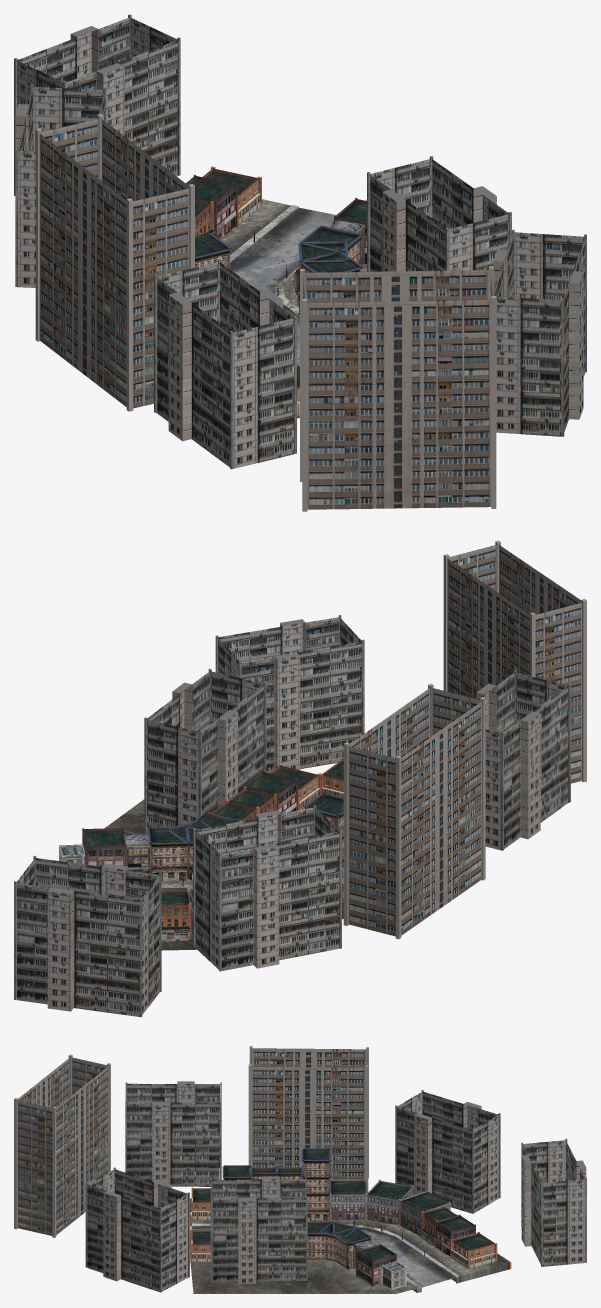
Rendered from street-v2.glb.
The picture shows the model from 3 angles, top to bottom: view 1: azimuth 30°, elevation 25°; view 2: azimuth 150°, elevation 25°; view 3: azimuth 270°, elevation 25°; orthographic projection. The views are drawn at different scales.
Visible parts, largest first — view 1: Plane.030, Plane.027, Cube.016, Cube.019, Cube.013, Cube.014, Cube.012, Plane, Cube.005, Cube.006, Plane.006, Plane.026 (+5 smaller); view 2: Plane.027, Cube.012, Cube.013, Plane.030, Cube.019, Cube.014, Cube.016, Plane.026, Cube.008, Plane.011, Cube.009, Cube.010 (+6 smaller); view 3: Plane.027, Plane.030, Cube.019, Cube.012, Cube.014, Cube.016, Cube.013, Plane.007, Plane.006, Plane, Cube.004, Cube.007 (+17 smaller).
Boxes of the visible parts, x1,y1,x2,y2 form: Plane.030: (300,266,496,511); Plane.027: (35,114,194,411); Cube.016: (154,259,296,469); Cube.019: (493,229,586,436); Cube.013: (14,14,180,195); Cube.014: (367,156,511,271); Cube.012: (15,84,106,287); Plane: (230,207,336,366); Cube.005: (186,174,237,239); Cube.006: (202,166,261,226); Plane.006: (221,199,299,418); Plane.026: (296,226,362,271); Plane.027: (343,683,485,939); Cube.012: (193,805,341,971); Cube.013: (14,855,161,1017); Plane.030: (443,540,586,783); Cube.019: (215,615,364,773); Cube.014: (144,668,266,833); Cube.016: (476,670,570,850); Plane.026: (147,825,189,881); Cube.008: (82,827,126,866); Plane.011: (161,888,191,941); Cube.009: (241,771,297,813); Cube.010: (270,764,320,810); Plane.027: (248,1046,368,1192); Plane.030: (14,1054,110,1237); Cube.019: (85,1167,189,1292); Cube.012: (395,1090,500,1213); Cube.014: (210,1176,307,1283); Cube.016: (125,1081,221,1186); Cube.013: (521,1138,586,1266); Plane.007: (190,1248,416,1293); Plane.006: (190,1198,511,1283); Plane: (192,1226,455,1287); Cube.004: (329,1178,366,1220); Cube.007: (366,1179,413,1224).
Bounding box in the file's own units: 24.52 × 13.03 × 49.61.
Materials: 12 (11 with a texture image).
